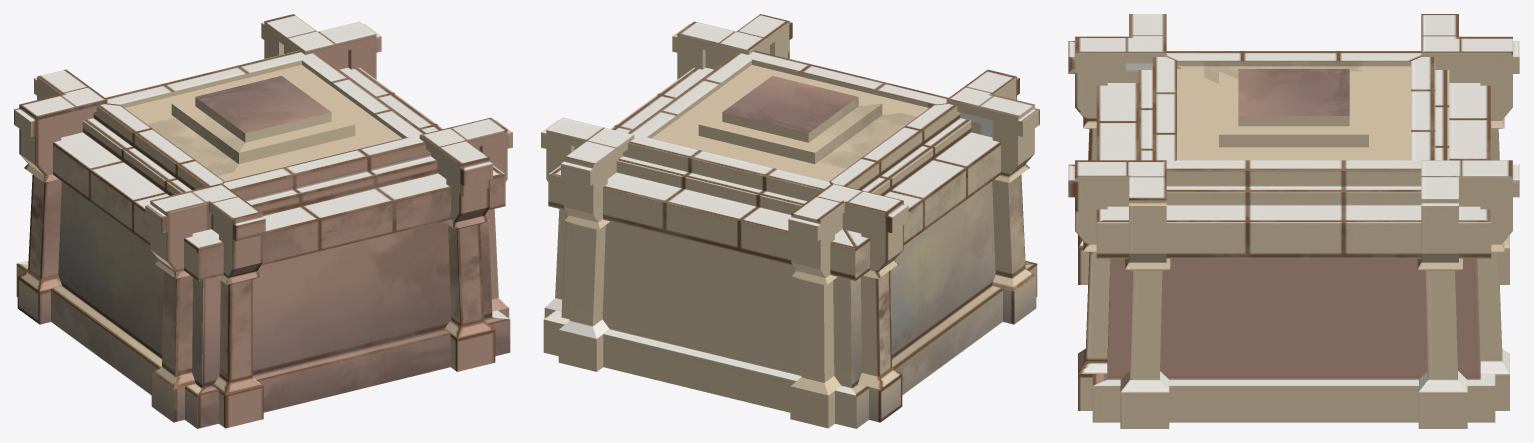
File: SM_MurV2.FBX
3 renders of one model, left to right at view 1: azimuth 30°, elevation 25°; view 2: azimuth 150°, elevation 25°; view 3: azimuth 270°, elevation 25°, orthographic. The views are drawn at different scales.
Visible parts, largest first — view 1: SM_blockTest01; view 2: SM_blockTest01; view 3: SM_blockTest01.
Boxes of the visible parts, left/top/right/bottom form: SM_blockTest01: left=14, top=14, right=512, bottom=428; SM_blockTest01: left=541, top=14, right=1039, bottom=428; SM_blockTest01: left=1068, top=14, right=1519, bottom=428.
Bounding box in the file's own units: 169 × 169 × 101.
